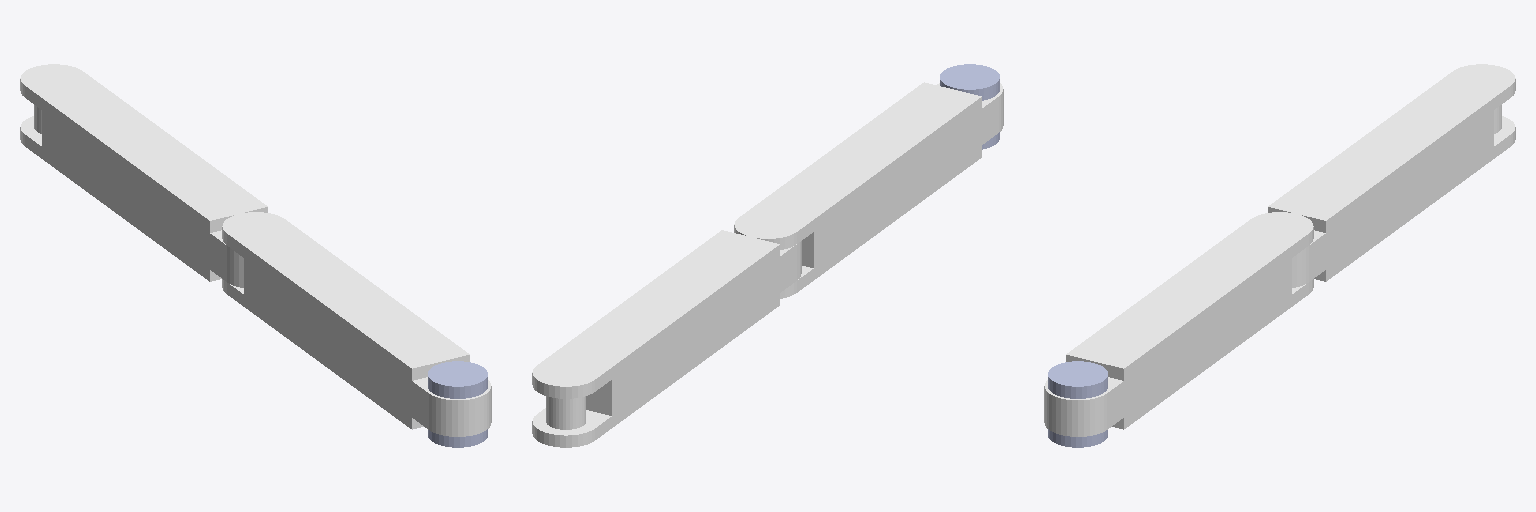
URDF robot description (two):
<?xml version="1.0" encoding="utf-8"?>
<!-- This URDF was automatically created by SolidWorks to URDF Exporter! Originally created by Stephen Brawner (brawner@gmail.com) 
     Commit Version: 1.6.0-1-g15f4949  Build Version: 1.6.7594.29634
     For more information, please see http://wiki.ros.org/sw_urdf_exporter -->
<robot
  name="two">
  <link
    name="base_link">
    <inertial>
      <origin
        xyz="1.985E-19 0 -1.9972E-18"
        rpy="0 0 0" />
      <mass
        value="0.42412" />
      <inertia
        ixx="0.00063352"
        ixy="4.92E-37"
        ixz="-8.4069E-38"
        iyy="0.00063352"
        iyz="-4.2045E-36"
        izz="0.00033399" />
    </inertial>
    <visual>
      <origin
        xyz="0 0 0"
        rpy="0 0 0" />
      <geometry>
        <mesh
          filename="package://two_link/meshes/base_link.STL" />
      </geometry>
      <material
        name="">
        <color
          rgba="0.79216 0.81961 0.93333 1" />
      </material>
    </visual>
    <collision>
      <origin
        xyz="0 0 0"
        rpy="0 0 0" />
      <geometry>
        <mesh
          filename="package://two_link/meshes/base_link.STL" />
      </geometry>
    </collision>
  </link>
  <link
    name="link1">
    <inertial>
      <origin
        xyz="0 0.3 0"
        rpy="0 0 0" />
      <mass
        value="3" />
      <inertia
        ixx="0.09"
        ixy="0"
        ixz="0"
        iyy="0"
        iyz="0"
        izz="0.09" />
    </inertial>
    <visual>
      <origin
        xyz="0 0 0"
        rpy="0 0 0" />
      <geometry>
        <mesh
          filename="package://two_link/meshes/link1.STL" />
      </geometry>
      <material
        name="">
        <color
          rgba="1 1 1 1" />
      </material>
    </visual>
    <collision>
      <origin
        xyz="0 0 0"
        rpy="0 0 0" />
      <geometry>
        <mesh
          filename="package://two_link/meshes/link1.STL" />
      </geometry>
    </collision>
  </link>
  <joint
    name="joint1"
    type="revolute">
    <origin
      xyz="0 0 0"
      rpy="0 0 0" />
    <parent
      link="base_link" />
    <child
      link="link1" />
    <axis
      xyz="0 0 1" />
    <limit
      lower="-3.1415926"
      upper="3.1415926"
      effort="0"
      velocity="0" />
    <dynamics
      damping="0.5" />
  </joint>
  <link
    name="link2">
    <inertial>
      <origin
        xyz="0 0.3 0"
        rpy="0 0 0" />
      <mass
        value="3" />
      <inertia
        ixx="0.09"
        ixy="0"
        ixz="0"
        iyy="0"
        iyz="0"
        izz="0.09" />
    </inertial>
    <visual>
      <origin
        xyz="0 0 0"
        rpy="0 0 0" />
      <geometry>
        <mesh
          filename="package://two_link/meshes/link2.STL" />
      </geometry>
      <material
        name="">
        <color
          rgba="1 1 1 1" />
      </material>
    </visual>
    <collision>
      <origin
        xyz="0 0 0"
        rpy="0 0 0" />
      <geometry>
        <mesh
          filename="package://two_link/meshes/link2.STL" />
      </geometry>
    </collision>
  </link>
  <joint
    name="joint2"
    type="revolute">
    <origin
      xyz="0 0.6 0"
      rpy="0 0 0" />
    <parent
      link="link1" />
    <child
      link="link2" />
    <axis
      xyz="0 0 1" />
    <limit
      lower="-3.1415926"
      upper="3.1415926"
      effort="0"
      velocity="0" />
    <dynamics
      damping="0.5" />
  </joint>
  <joint
    name="FlangeJoint"
    type="fixed">
    <origin
      xyz="0 0.6 0"
      rpy="0 0 0" />
    <parent
      link="link2" />
    <child
      link="flange" />
  </joint>
  <link name="flange"/>
</robot>

--- What the picture shows (computed from the rendered views, not written in the file) ---
The picture shows the robot from 3 angles, left to right: view 1: azimuth 30°, elevation 25°; view 2: azimuth 150°, elevation 25°; view 3: azimuth 330°, elevation 25°; orthographic projection.
Model two with 4 links and 3 joints (2 revolute, 1 fixed), rooted at base_link, posed all joints at 0.
Links seen in each view (by area): view 1: link1, link2, base_link; view 2: link2, link1, base_link; view 3: link1, link2, base_link.
Link boxes in pixels (x1,y1,x2,y2): link1: (222,212,491,436); link2: (20,64,267,287); base_link: (428,361,487,447); link2: (532,230,801,447); link1: (734,82,1003,298); base_link: (940,64,999,149); link1: (1044,212,1313,436); link2: (1268,64,1515,287); base_link: (1048,361,1107,447).
Bounding box of the posed robot: 0.1 × 1.3 × 0.1 m (x, y, z).
3 mesh visuals loaded from 3 distinct referenced files (3 binary STL).
